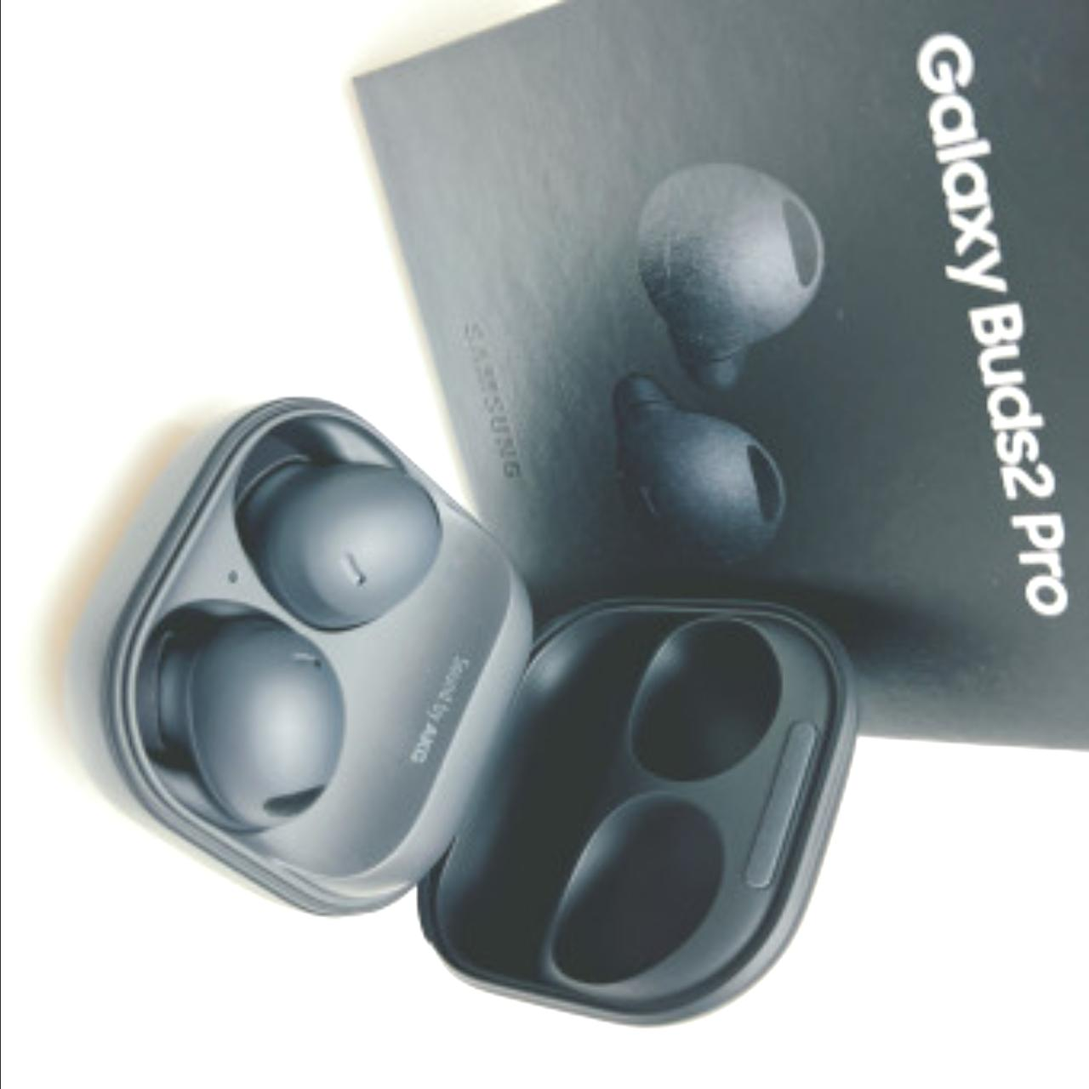Buds: (74, 356, 867, 1029)
Buds_Units: (130, 597, 350, 841), (230, 427, 442, 637)
